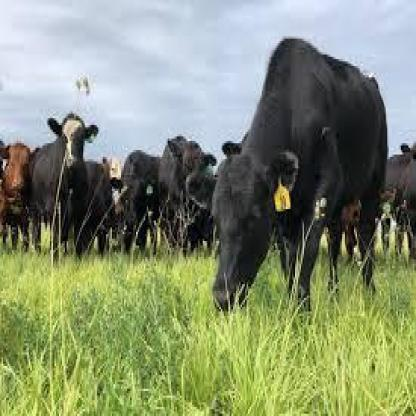cow: (183, 37, 389, 320), (23, 112, 98, 260), (110, 149, 164, 262), (1, 141, 38, 252)
